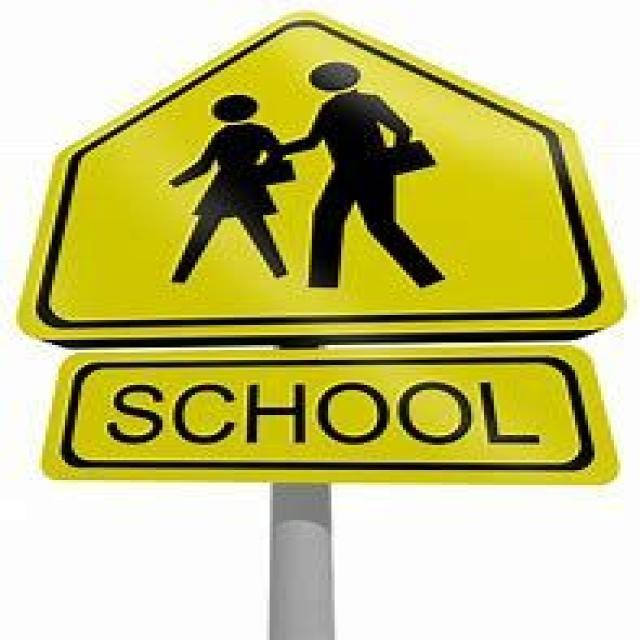school ahead: (65, 23, 582, 307)
